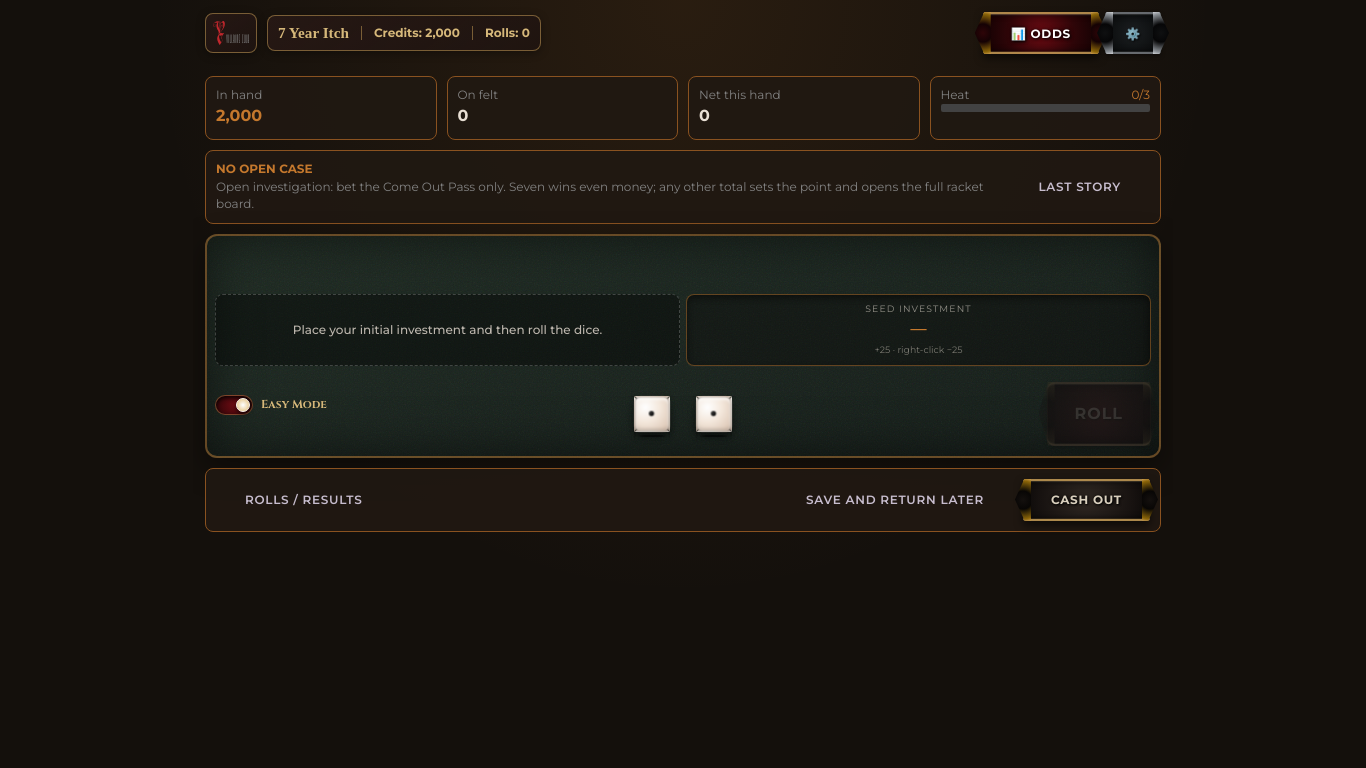
Test: SevenYearItchRoot › does not show the Evidence Locker Key recovery section when the favor is not active on a 7 out
The width and height of the screenshot is (1366, 768).
// Add pass line bet
Click the button with test id "felt-pass". click: (918, 330)
box: [686, 294, 1151, 366]
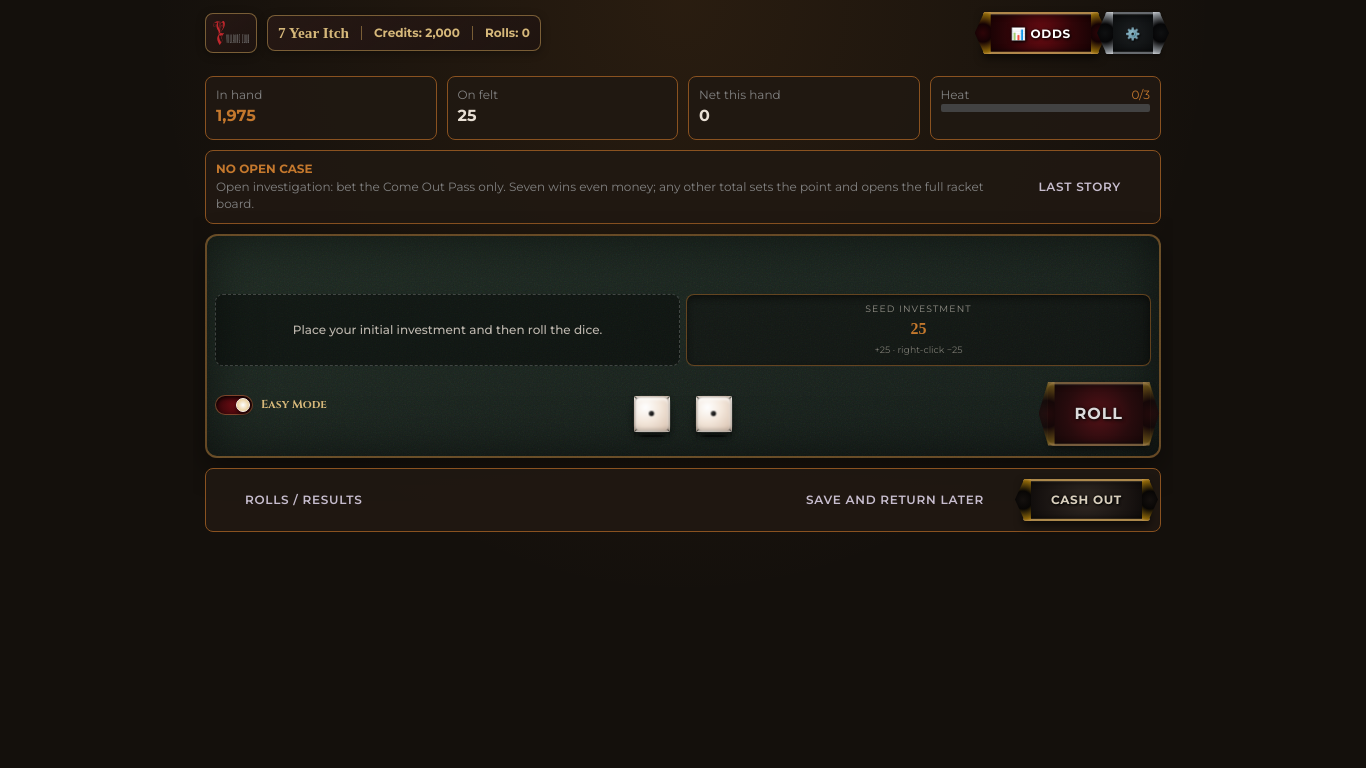
Expected: the text "25" below "On felt" is shown, [458, 106, 476, 125]
// Roll 1 (sets point to 12)
Click the button "Roll". click: (1099, 414)
box: [1047, 382, 1151, 446]
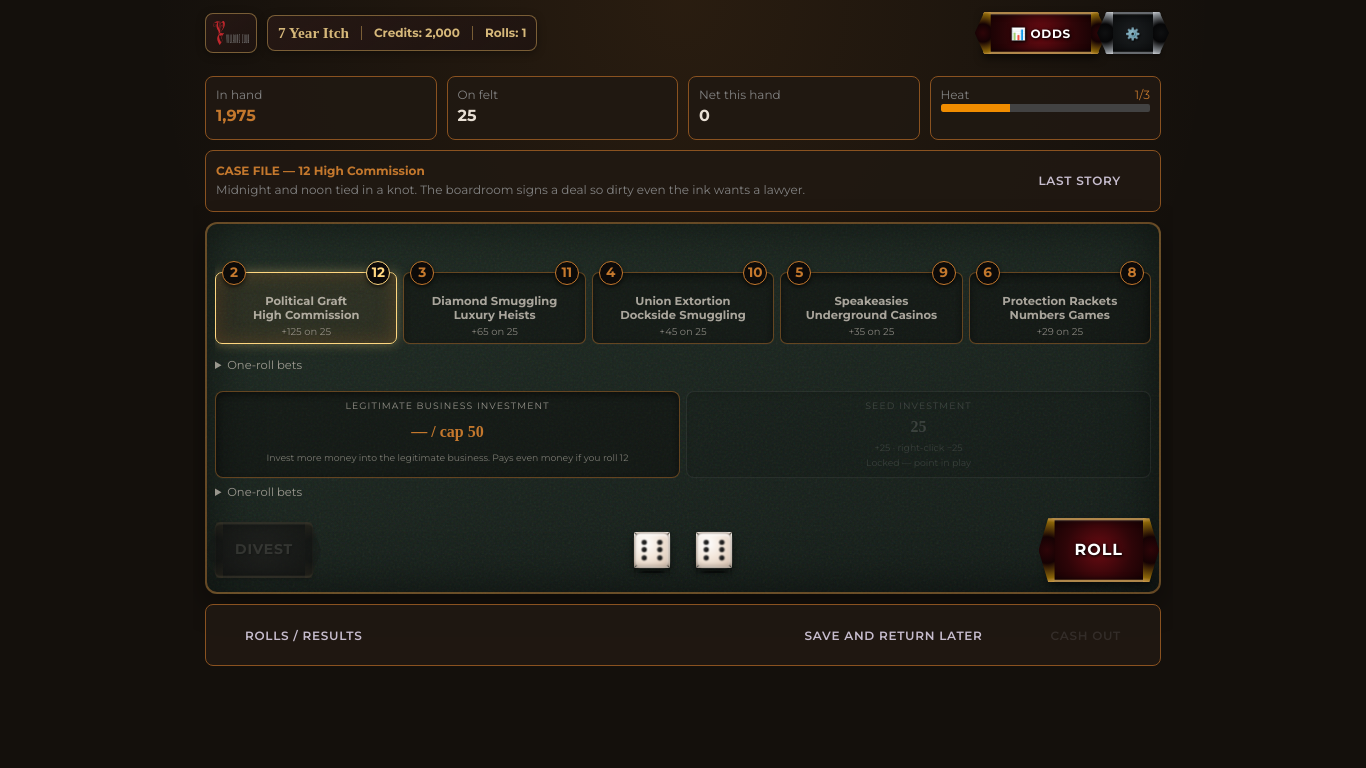
Expected: the text "Rolls: 1" is shown, [485, 25, 526, 40]
// Roll 2 (rolls 7, ends hand, triggers recap)
Click the button "Roll". click: (1099, 550)
box: [1047, 518, 1151, 582]
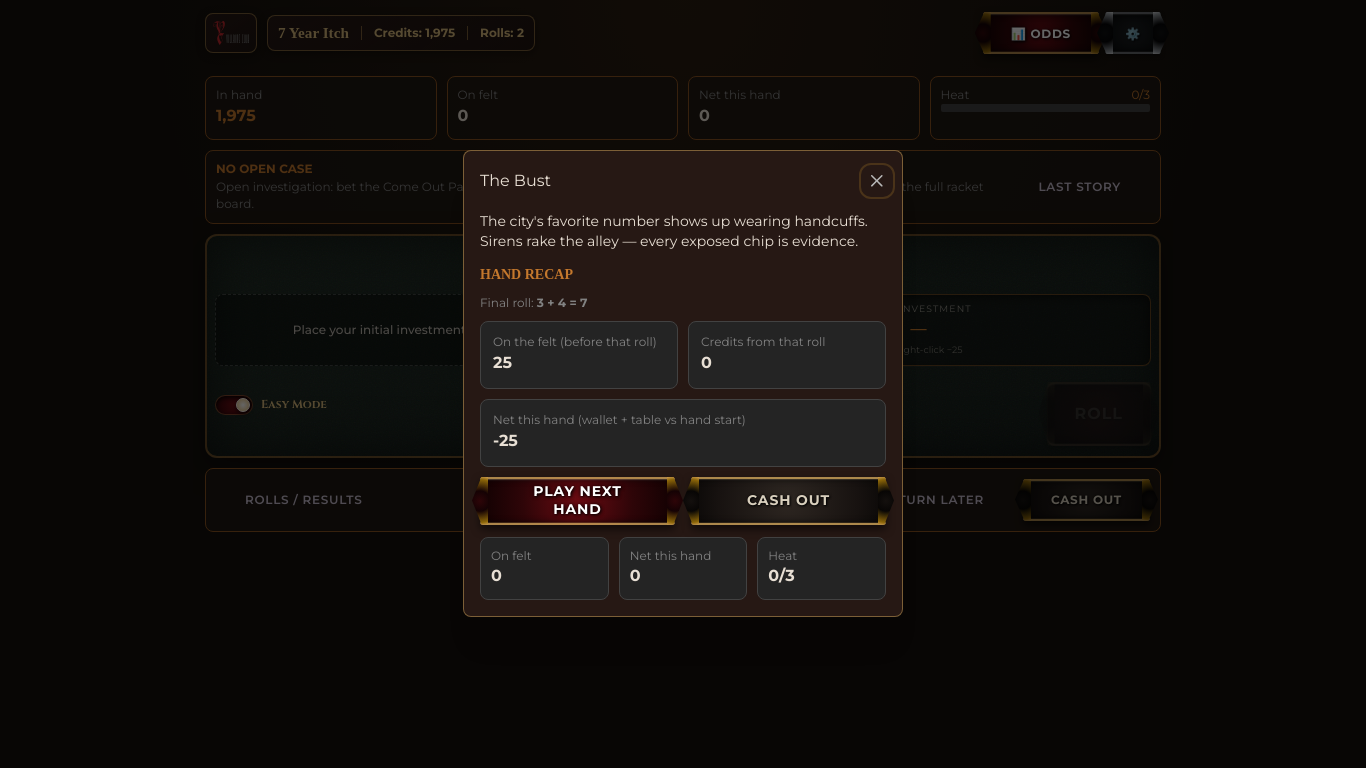
Expected: the dialog "The Bust" is shown, [463, 150, 903, 618]
